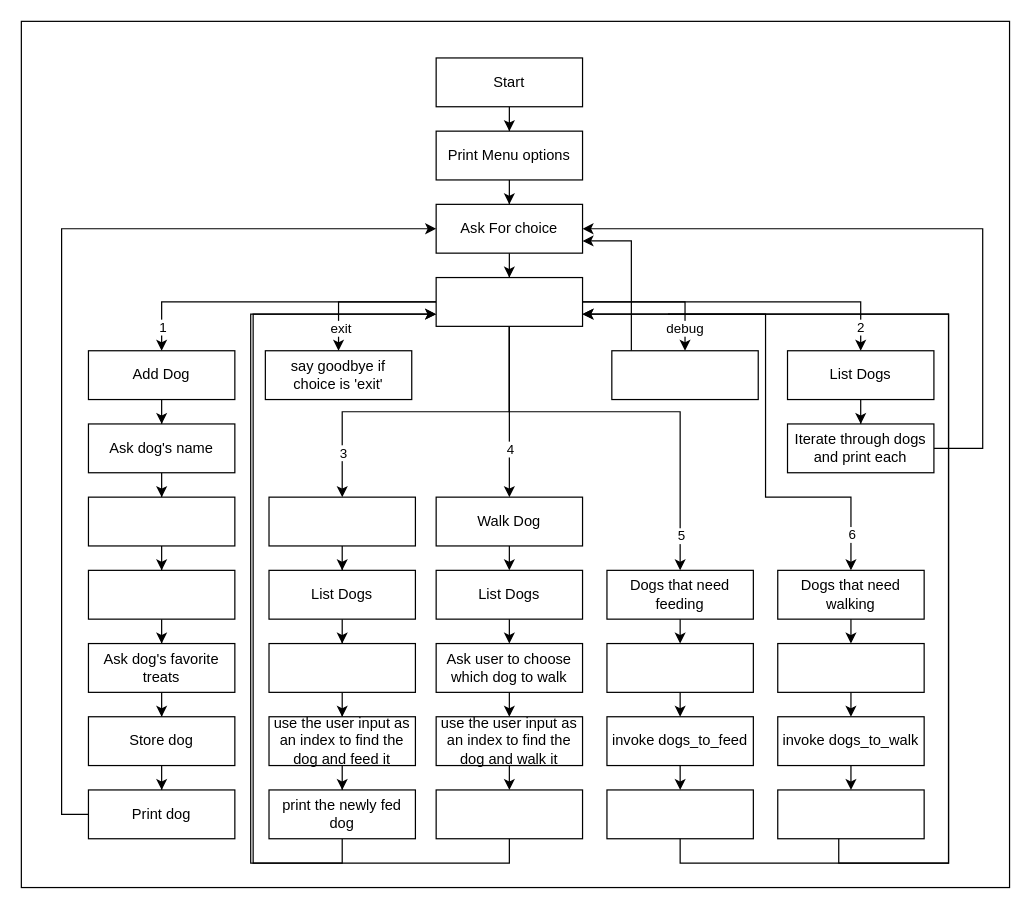
Image size: 1031x909. Some labels were removed from this diagram. The box of each missing label's shape, as (x1, y1, x2, y2) in pixels:
Ask dog's age: (87, 496, 235, 546)
Ask dog's breed: (87, 569, 235, 619)
Ask user to choose which dog to feed: (268, 642, 415, 692)
binding.pry if choice is 'debug': (611, 350, 758, 400)
Feed Dog: (268, 496, 415, 546)
Handle Choice: (435, 276, 583, 326)
list_dogs_to_feed: (606, 642, 753, 692)
list_dogs_to_walk: (777, 642, 924, 692)
print the names of each dog that needs feeding: (606, 789, 753, 839)
print the names of each dog that needs walking: (777, 789, 924, 839)
print the newly walked dog: (435, 789, 583, 839)
